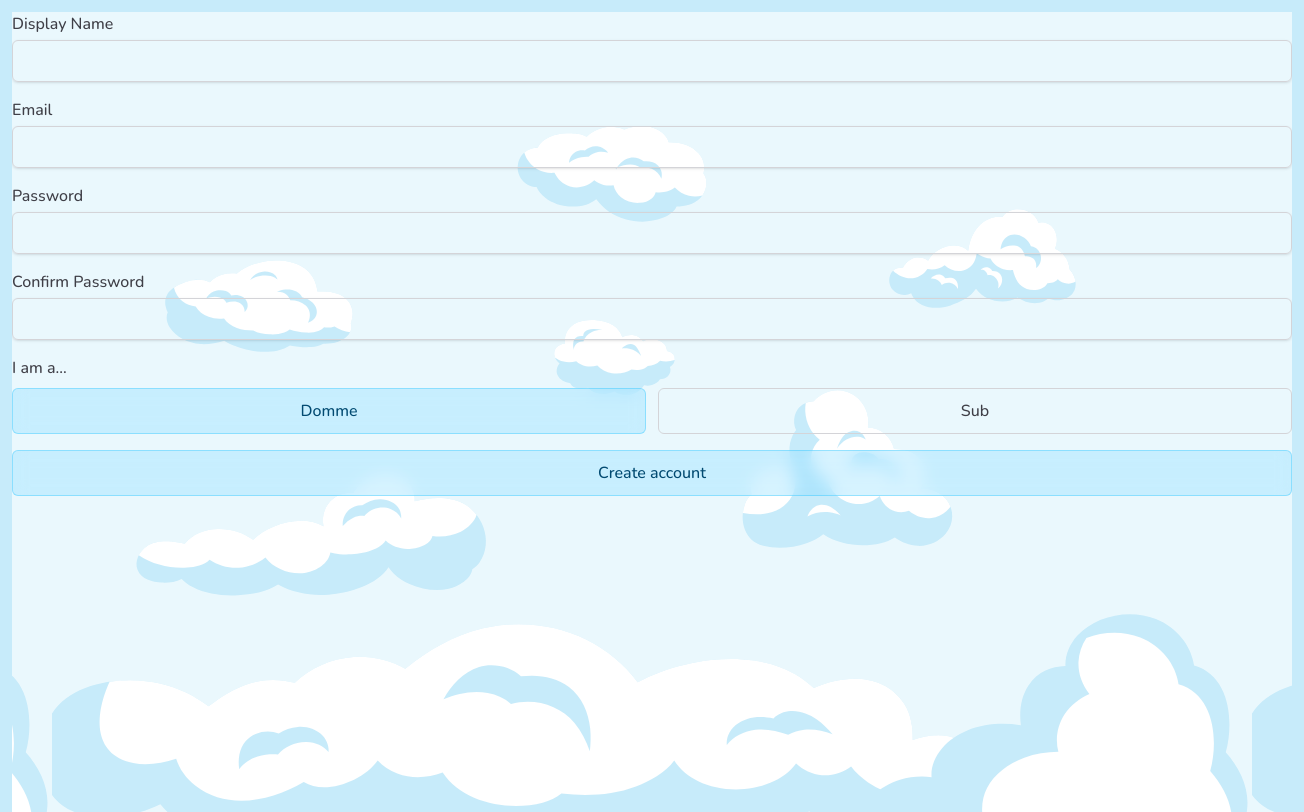
Test: RegisterForm › shows error when passwords do not match
Type "test@example.com" into the field labelled "Email" at coordinates (652, 147), box [12, 126, 1292, 168]
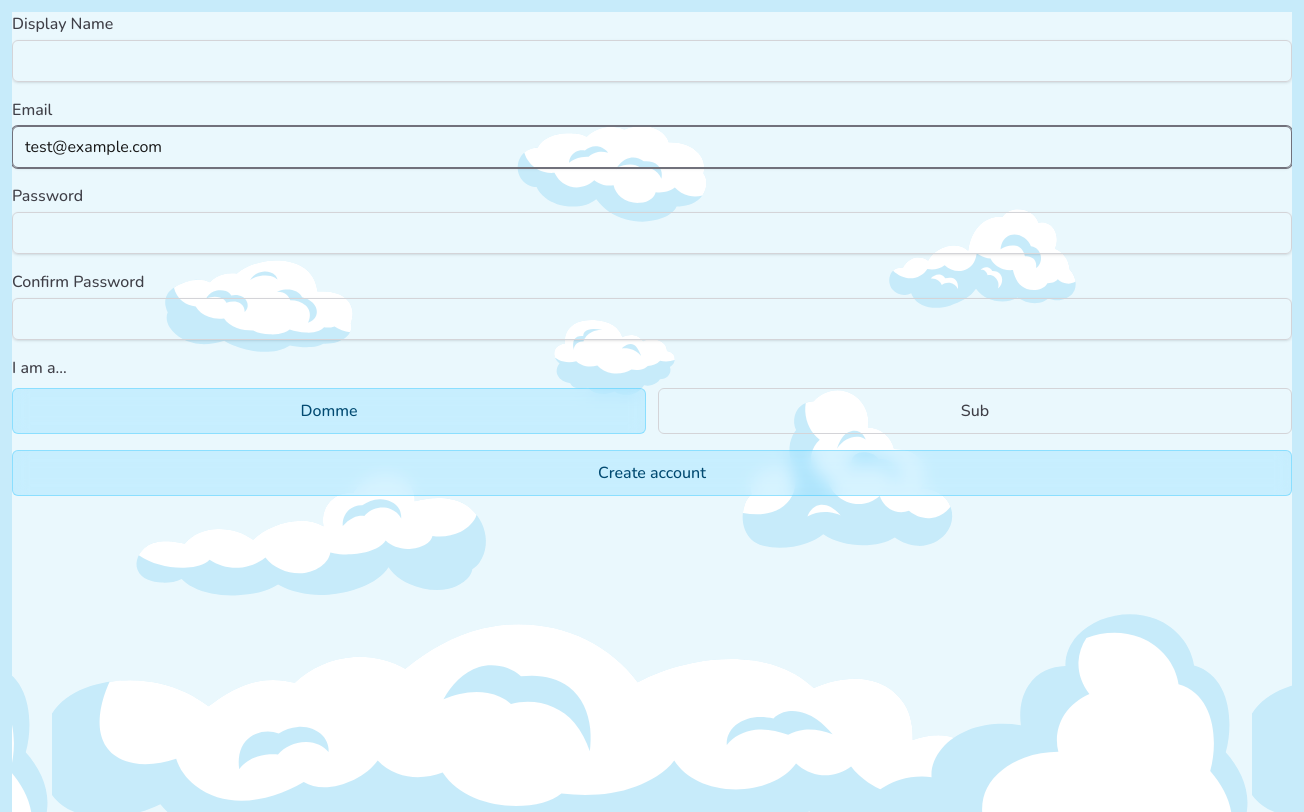
Type "password123" into the password field labelled "Password" at coordinates (652, 233), box [12, 212, 1292, 254]
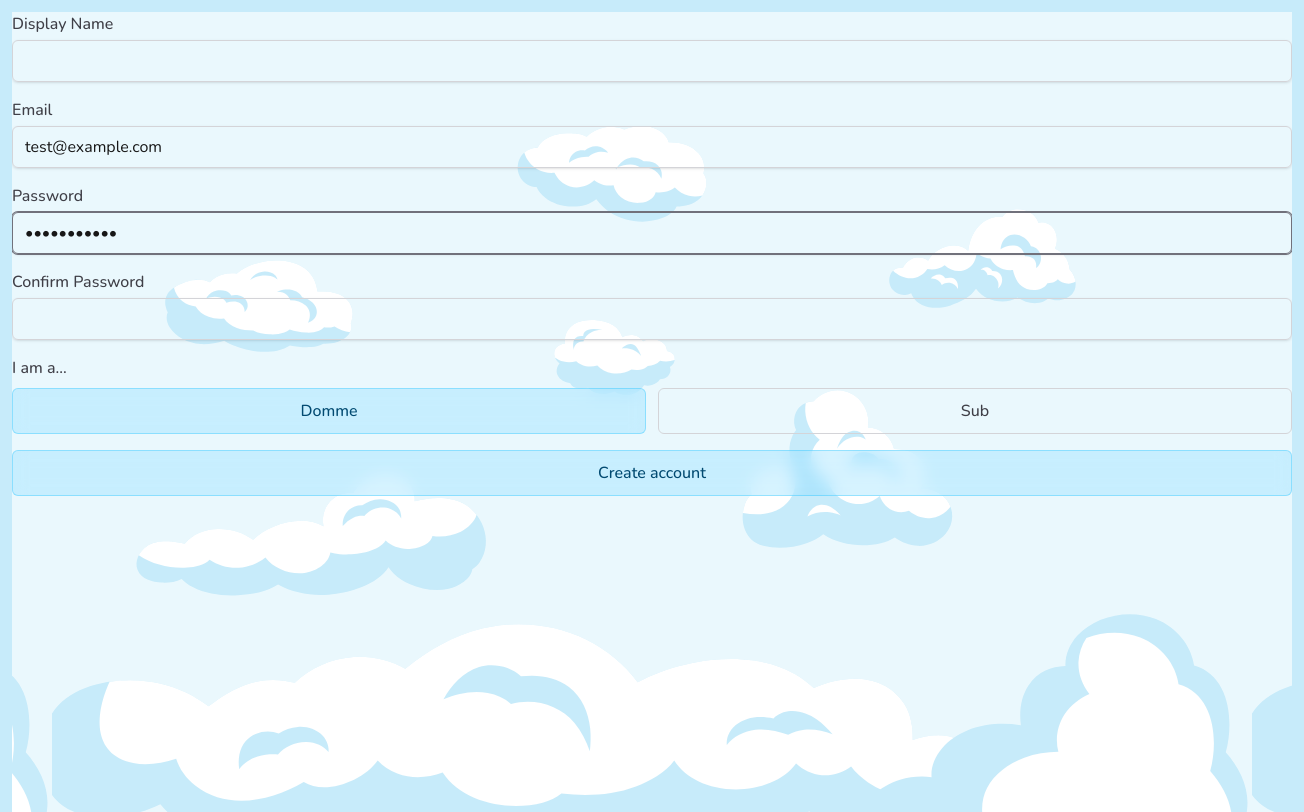
Type "different456" into the password field labelled "Confirm Password" at coordinates (652, 319), box [12, 298, 1292, 340]
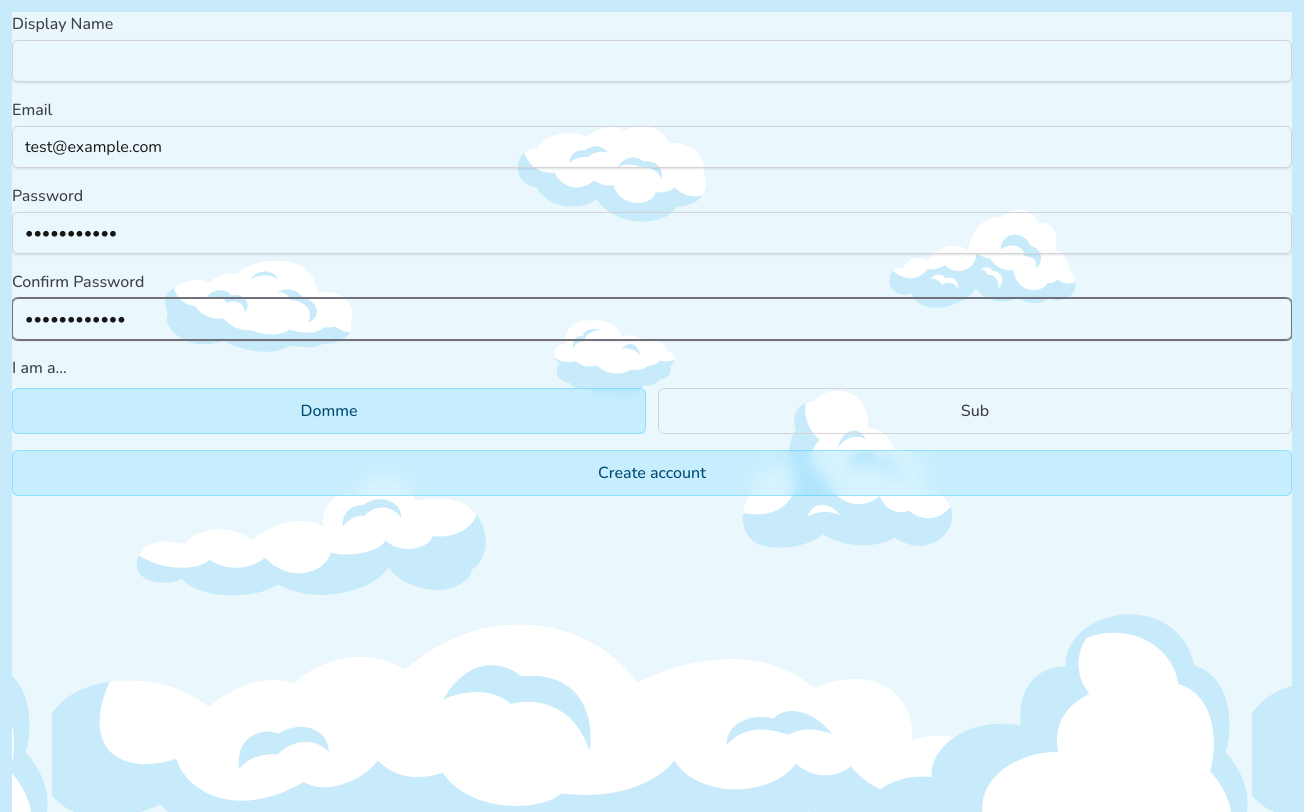
Click the button "Create account" at coordinates (652, 473), box [12, 450, 1292, 496]
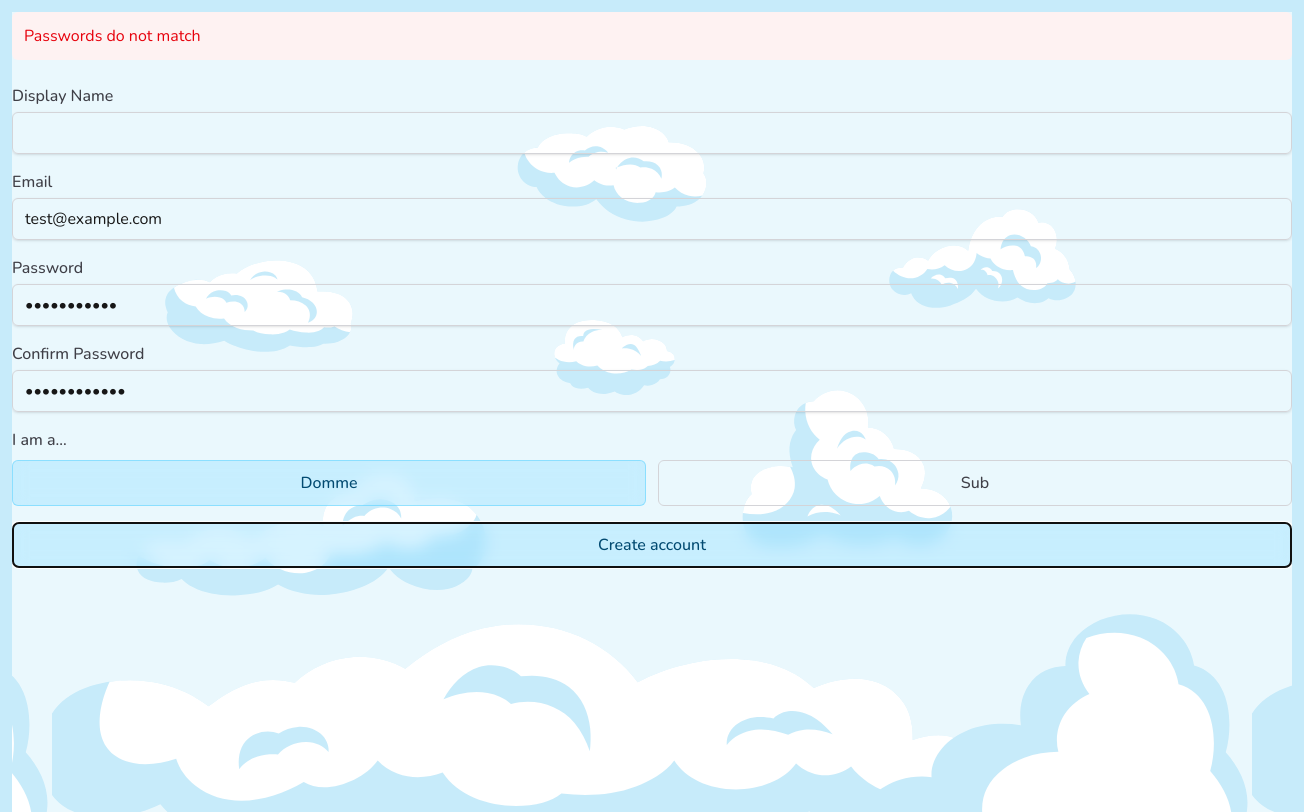
Result: the text "Passwords do not match" is shown at [12, 12, 1292, 60]
